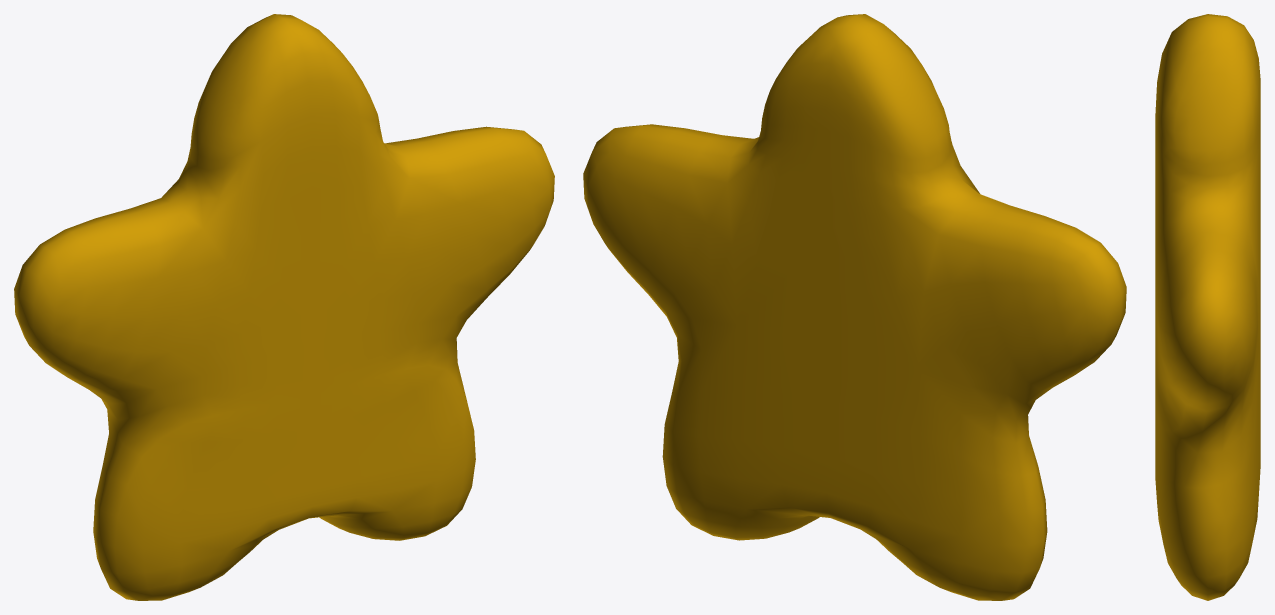
The model's file is star.obj.
3 views of the same model, side by side, from view 1: azimuth 30°, elevation 25°; view 2: azimuth 150°, elevation 25°; view 3: azimuth 270°, elevation 25° (orthographic). The views are drawn at different scales.
Size of the model in its own units: 13.2 by 13 by 2.4.
